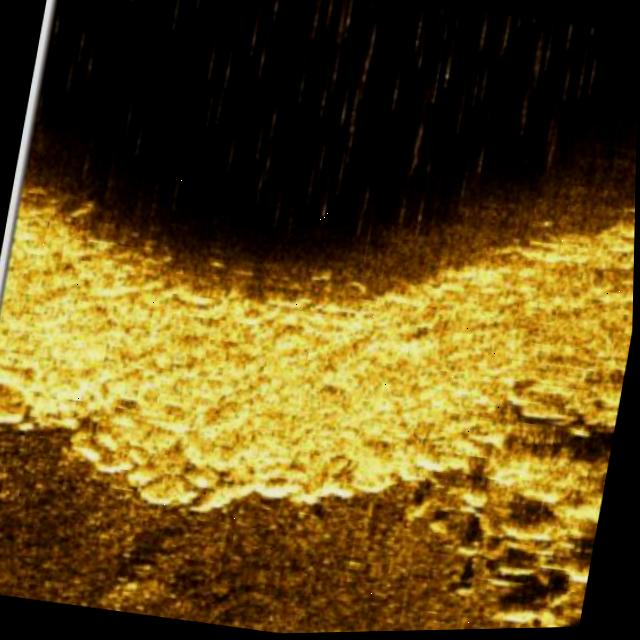bedrock group: (0, 115, 638, 640)
